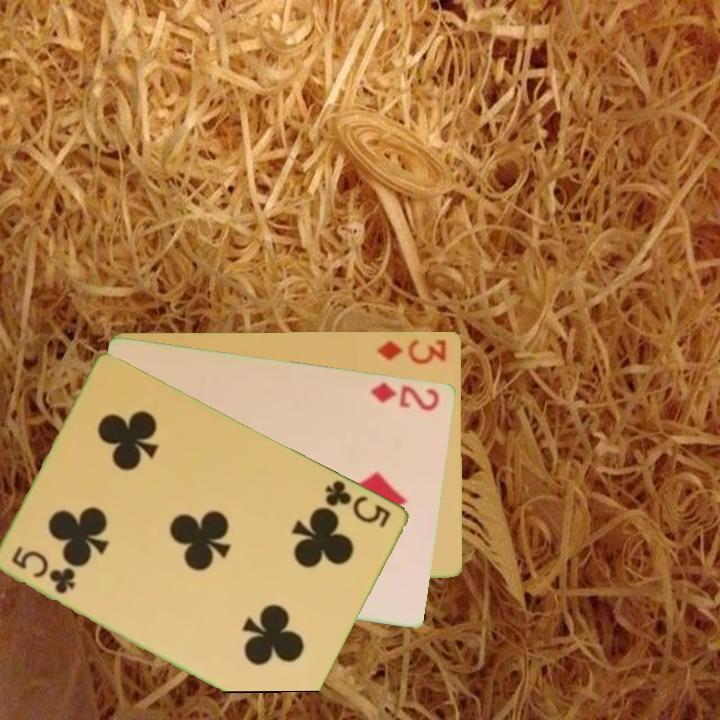2d: (368, 378, 443, 414)
3d: (374, 335, 449, 367)
5c: (321, 476, 394, 531), (8, 542, 79, 597)
